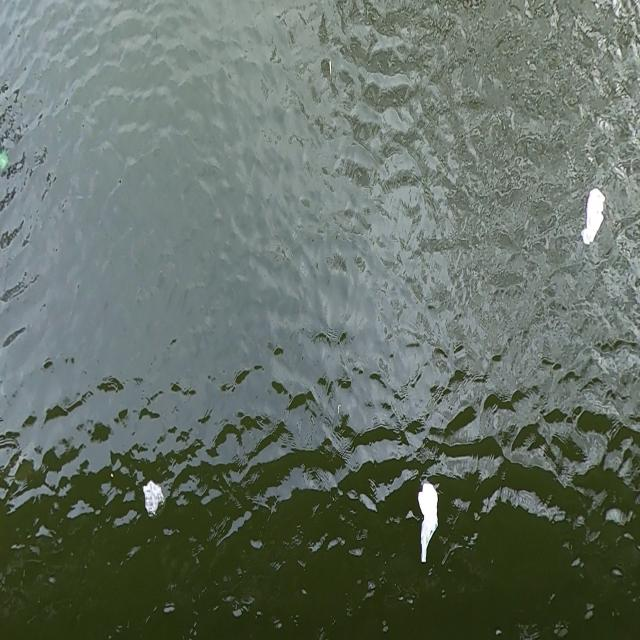Sac plastique: (418, 484, 438, 562), (581, 189, 606, 243), (142, 480, 164, 516)
